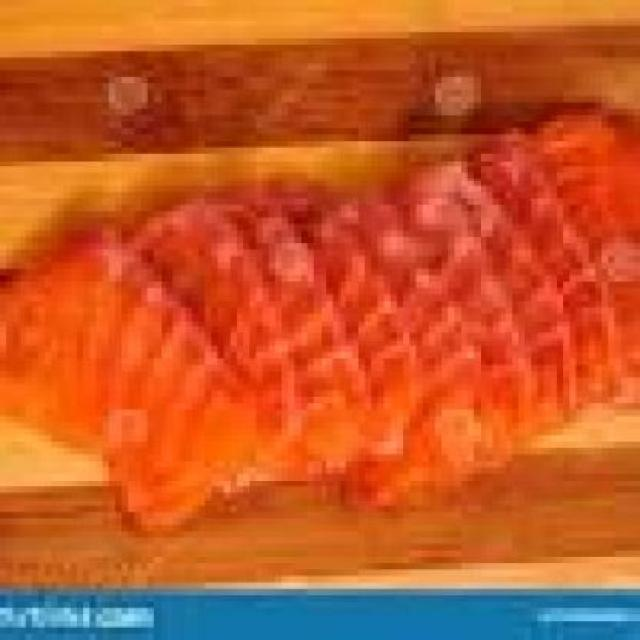salmon: (6, 103, 640, 532)
